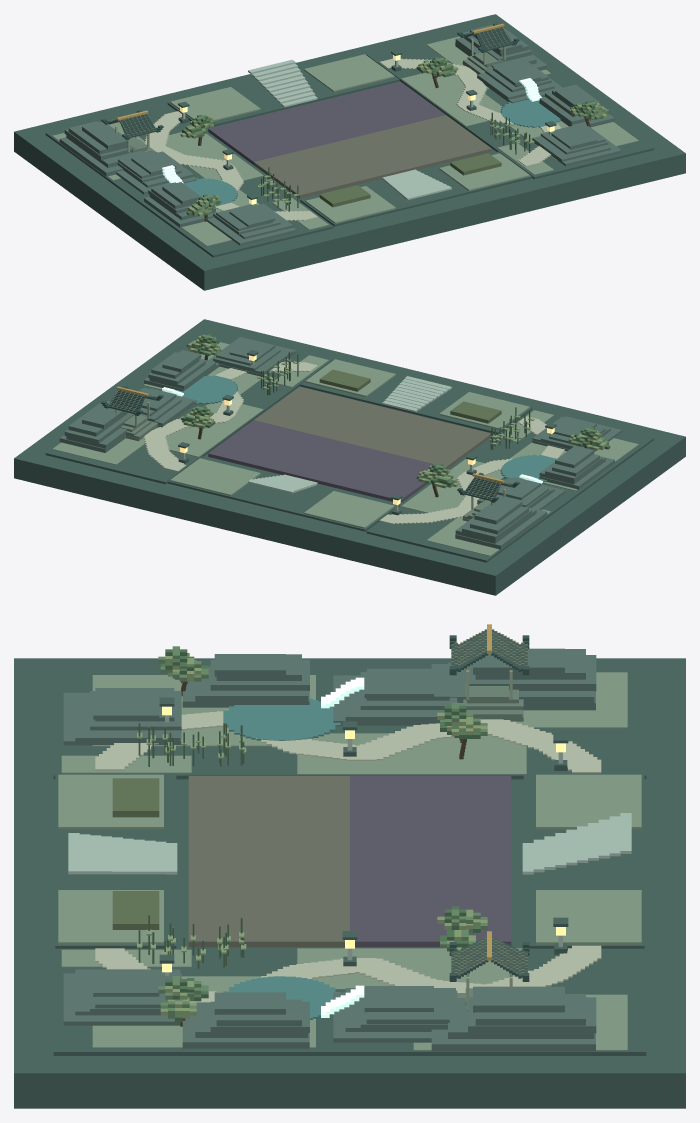
Rendered from preview-xianxia.glb.
3 views of the same model, one above another, from view 1: azimuth 30°, elevation 25°; view 2: azimuth 150°, elevation 25°; view 3: azimuth 270°, elevation 25° (orthographic). The views are drawn at different scales.
Parts seen in each view (by area): view 1: Miniature_Plinth, Miniature_Original_Board, Miniature_Landscape_Mountain_Strata, Miniature_East_Landscape_Mountain_Strata, Miniature_Approach_Flanking_Terraces, Miniature_Approach_Terrain, Miniature_East_Landscape_Terrain_Fields, Miniature_East_Landscape_Terrain_Base, Miniature_Landscape_Terrain_Base, Miniature_Landscape_Terrain_Fields, Miniature_Approach_Entry_Stair, Miniature_Landscape_Curved_Stone_Walk (+13 smaller); view 2: Miniature_Plinth, Miniature_Original_Board, Miniature_Landscape_Mountain_Strata, Miniature_East_Landscape_Mountain_Strata, Miniature_Approach_Flanking_Terraces, Miniature_Approach_Terrain, Miniature_Landscape_Terrain_Base, Miniature_East_Landscape_Terrain_Fields, Miniature_East_Landscape_Terrain_Base, Miniature_Landscape_Terrain_Fields, Miniature_Approach_Entry_Stair, Miniature_East_Landscape_Curved_Stone_Walk (+13 smaller); view 3: Miniature_Plinth, Miniature_Original_Board, Miniature_East_Landscape_Mountain_Strata, Miniature_Landscape_Mountain_Strata, Miniature_Approach_Flanking_Terraces, Miniature_East_Landscape_Terrain_Base, Miniature_Landscape_Terrain_Fields, Miniature_Landscape_Terrain_Base, Miniature_Approach_Terrain, Miniature_East_Landscape_Terrain_Fields, Miniature_Approach_Entry_Stair, Miniature_Landscape_Curved_Stone_Walk (+15 smaller).
Part boxes in pixels (box(x1,y1,x2,y2)): Miniature_Plinth: box(14, 14, 685, 290); Miniature_Original_Board: box(208, 81, 491, 198); Miniature_Landscape_Mountain_Strata: box(59, 121, 296, 245); Miniature_East_Landscape_Mountain_Strata: box(455, 23, 621, 166); Miniature_Approach_Flanking_Terraces: box(170, 54, 529, 223); Miniature_Approach_Terrain: box(167, 54, 532, 226); Miniature_East_Landscape_Terrain_Fields: box(401, 36, 638, 174); Miniature_East_Landscape_Terrain_Base: box(366, 25, 654, 179); Miniature_Landscape_Terrain_Base: box(45, 103, 333, 257); Miniature_Landscape_Terrain_Fields: box(52, 122, 328, 246); Miniature_Approach_Entry_Stair: box(248, 59, 451, 200); Miniature_Landscape_Curved_Stone_Walk: box(144, 111, 317, 220); Miniature_Plinth: box(14, 319, 685, 595); Miniature_Original_Board: box(208, 386, 490, 503); Miniature_Landscape_Mountain_Strata: box(455, 416, 621, 549); Miniature_East_Landscape_Mountain_Strata: box(59, 337, 296, 452); Miniature_Approach_Flanking_Terraces: box(170, 359, 529, 528); Miniature_Approach_Terrain: box(167, 359, 532, 531); Miniature_Landscape_Terrain_Base: box(366, 408, 654, 562); Miniature_East_Landscape_Terrain_Fields: box(52, 342, 328, 464); Miniature_East_Landscape_Terrain_Base: box(45, 330, 333, 484); Miniature_Landscape_Terrain_Fields: box(401, 410, 638, 556); Miniature_Approach_Entry_Stair: box(248, 376, 451, 493); Miniature_East_Landscape_Curved_Stone_Walk: box(143, 362, 317, 471); Miniature_Plinth: box(14, 658, 685, 1108); Miniature_Original_Board: box(188, 776, 511, 947); Miniature_East_Landscape_Mountain_Strata: box(63, 969, 596, 1051); Miniature_Landscape_Mountain_Strata: box(63, 648, 596, 745); Miniature_Approach_Flanking_Terraces: box(58, 774, 641, 944); Miniature_East_Landscape_Terrain_Base: box(53, 948, 646, 1055); Miniature_Landscape_Terrain_Fields: box(61, 672, 627, 774); Miniature_Landscape_Terrain_Base: box(53, 672, 646, 779); Miniature_Approach_Terrain: box(55, 775, 644, 948); Miniature_East_Landscape_Terrain_Fields: box(61, 948, 627, 1050); Miniature_Approach_Entry_Stair: box(68, 813, 631, 874); Miniature_Landscape_Curved_Stone_Walk: box(95, 711, 601, 773).
Bounding box in the file's own units: 7.6 × 0.9392 × 5.2.
